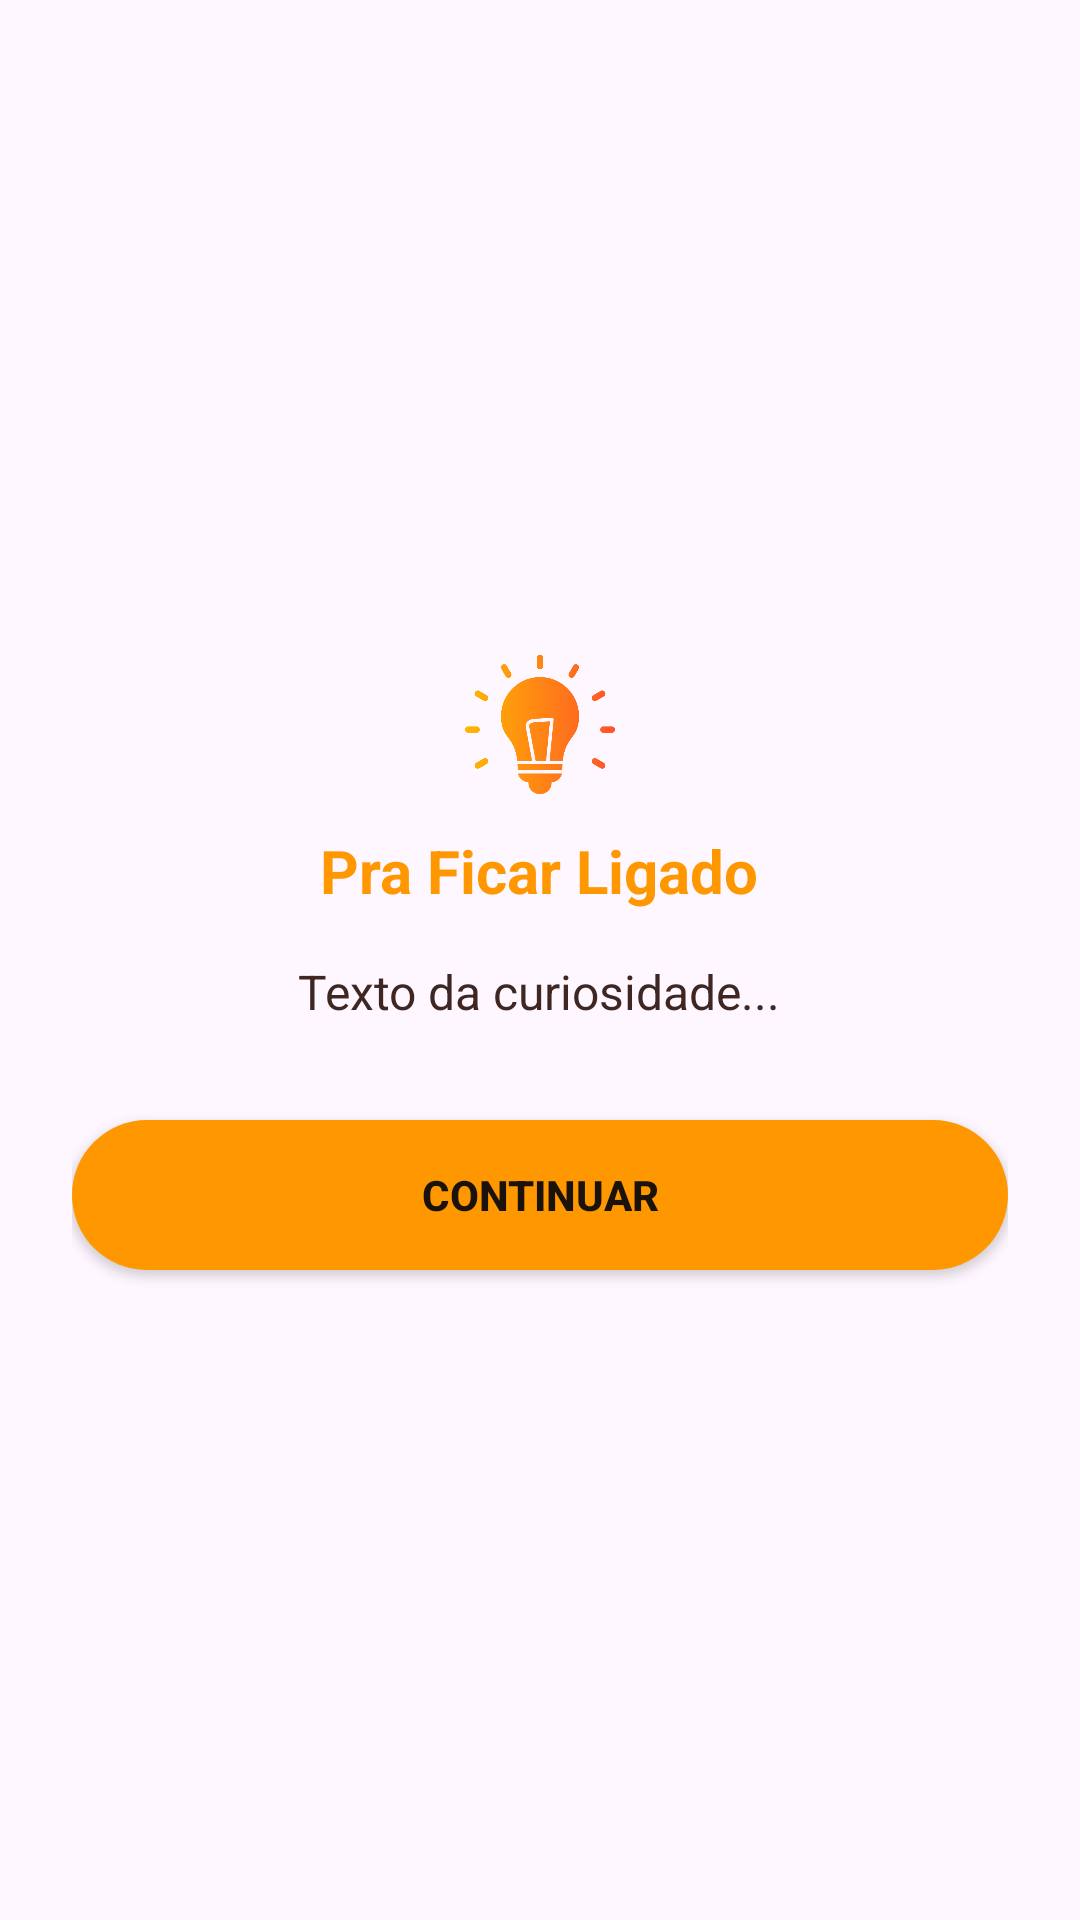

Named icons in this screenshot (1080×1920) and their bounding boxes, [x1, y1, x2, y2]:
lampada de ideia: [465, 654, 615, 794]
